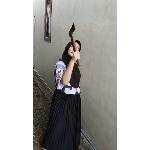Kapak: (68, 22, 82, 68)
